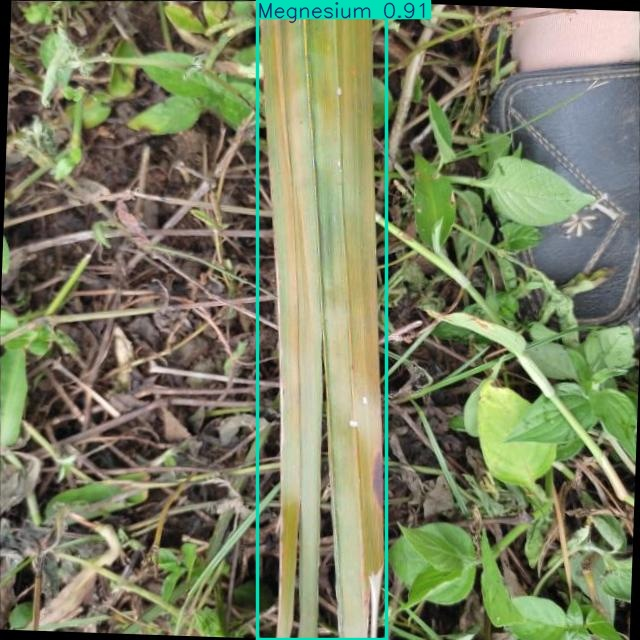Megnesium: (257, 0, 386, 639)
